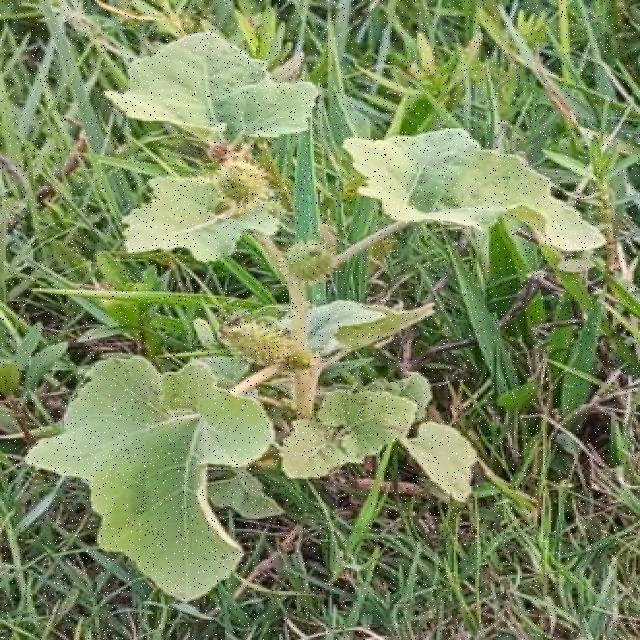weed: (25, 130, 605, 600), (107, 32, 316, 141)
